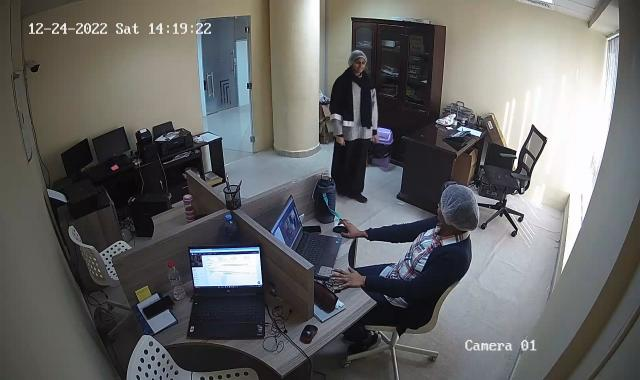hairnet: (441, 184, 476, 231), (349, 48, 366, 66)
